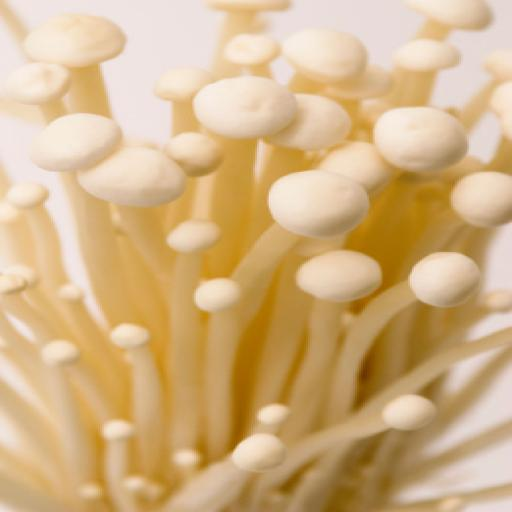Enoki Mushroom: (14, 12, 500, 458)
